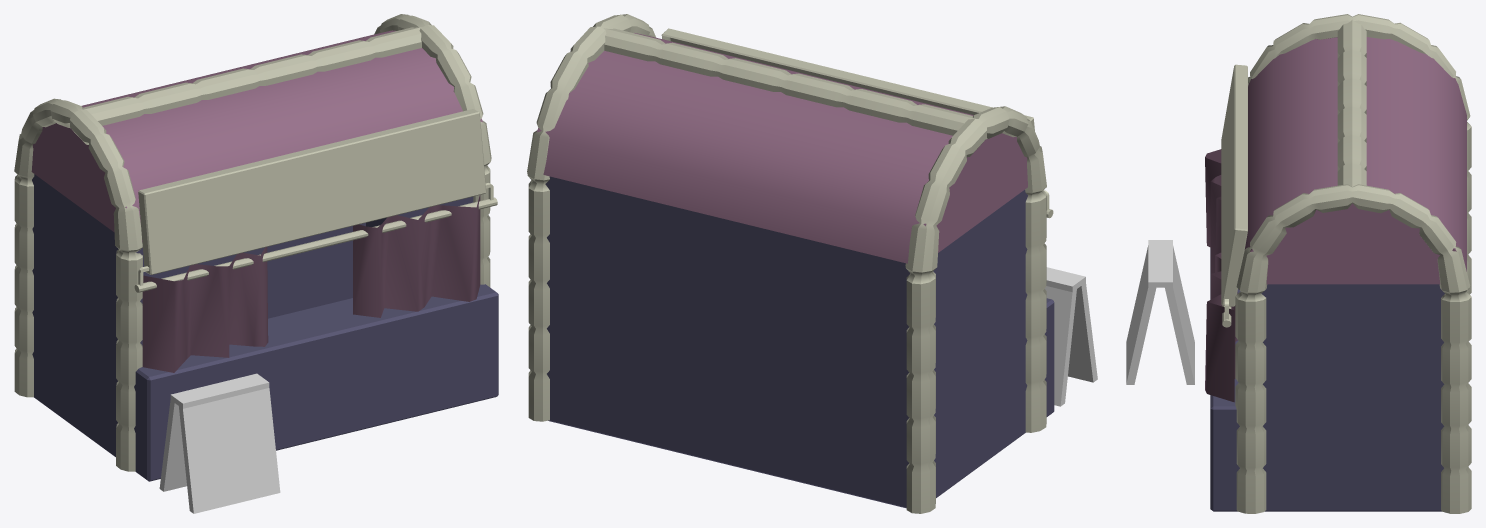
Rendered from TiendadeSuccubo.fbx.
3 renders of one model, left to right at view 1: azimuth 30°, elevation 25°; view 2: azimuth 150°, elevation 25°; view 3: azimuth 270°, elevation 25°, orthographic. The views are drawn at different scales.
Parts seen in each view (by area): view 1: TiendadeSuccubo; view 2: TiendadeSuccubo; view 3: TiendadeSuccubo.
Boxes of the visible parts, left/top/right/bottom form: TiendadeSuccubo: left=14, top=14, right=498, bottom=513; TiendadeSuccubo: left=527, top=14, right=1097, bottom=513; TiendadeSuccubo: left=1126, top=14, right=1471, bottom=513.
Bounding box in the file's own units: 4.47 × 3.73 × 3.58.
